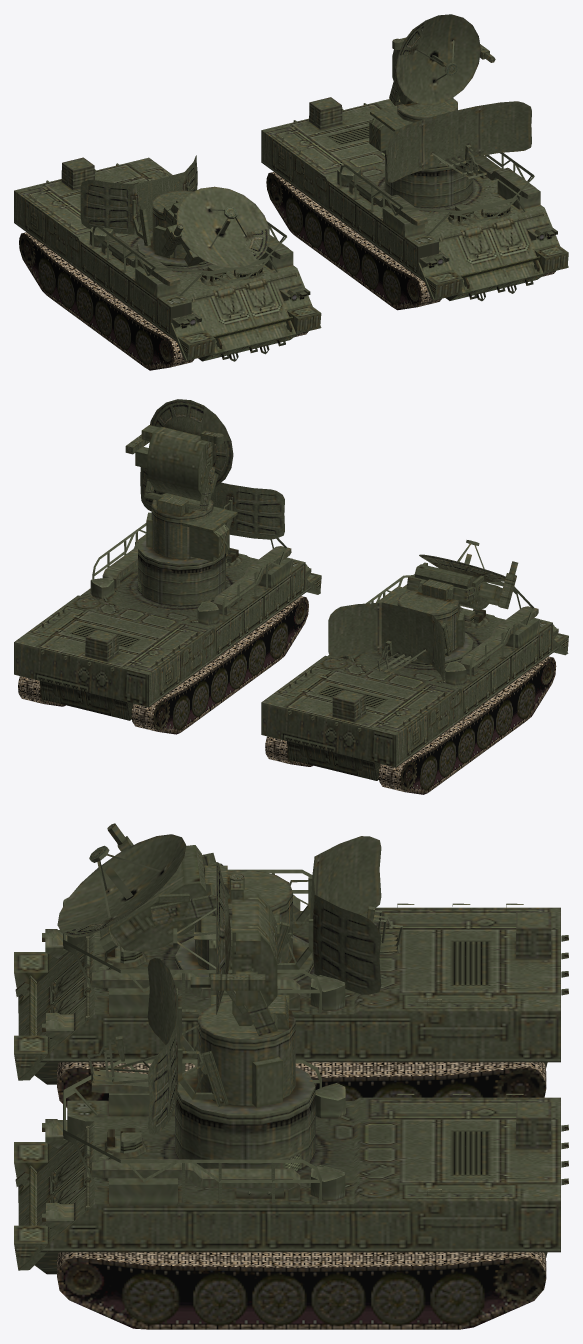
File: 1s91_straight_flushlow_poly.glb
3 views of the same model, one above another, from view 1: azimuth 30°, elevation 25°; view 2: azimuth 150°, elevation 25°; view 3: azimuth 270°, elevation 25° (orthographic). The views are drawn at different scales.
Parts seen in each view (by area): view 1: Hull, Hull_2, radar_3_Material #25_0, track, radar_Material #25_0, track_2, radar_2_Material #25_0, radar_4_Material #25_0; view 2: Hull, Hull_2, radar_3_Material #25_0, track, track_2, radar_2_Material #25_0, radar_Material #25_0, radar_4_Material #25_0; view 3: Hull, Hull_2, track, radar_3_Material #25_0, radar_Material #25_0, track_2, radar_2_Material #25_0, radar_4_Material #25_0.
Part boxes in pixels (<box>): Hull: <box>261,97,568,301</box>; Hull_2: <box>14,157,321,361</box>; radar_3_Material #25_0: <box>80,155,269,267</box>; track: <box>266,152,555,310</box>; radar_Material #25_0: <box>369,101,531,182</box>; track_2: <box>19,221,308,370</box>; radar_2_Material #25_0: <box>389,14,495,119</box>; radar_4_Material #25_0: <box>152,190,193,215</box>; Hull: <box>14,534,321,720</box>; Hull_2: <box>261,584,568,780</box>; radar_3_Material #25_0: <box>328,540,518,681</box>; track: <box>18,523,308,734</box>; track_2: <box>265,575,556,794</box>; radar_2_Material #25_0: <box>125,399,233,519</box>; radar_Material #25_0: <box>140,467,284,561</box>; radar_4_Material #25_0: <box>397,579,459,615</box>; Hull: <box>14,1065,568,1274</box>; Hull_2: <box>14,894,568,1084</box>; track: <box>57,1059,546,1329</box>; radar_3_Material #25_0: <box>57,823,402,994</box>; radar_Material #25_0: <box>87,958,295,1134</box>; track_2: <box>57,869,546,1107</box>; radar_2_Material #25_0: <box>173,862,295,1043</box>; radar_4_Material #25_0: <box>204,865,292,914</box>.
Bounding box in the file's own units: 7.27 × 4.66 × 5.74.
4 materials, 4 textured.
